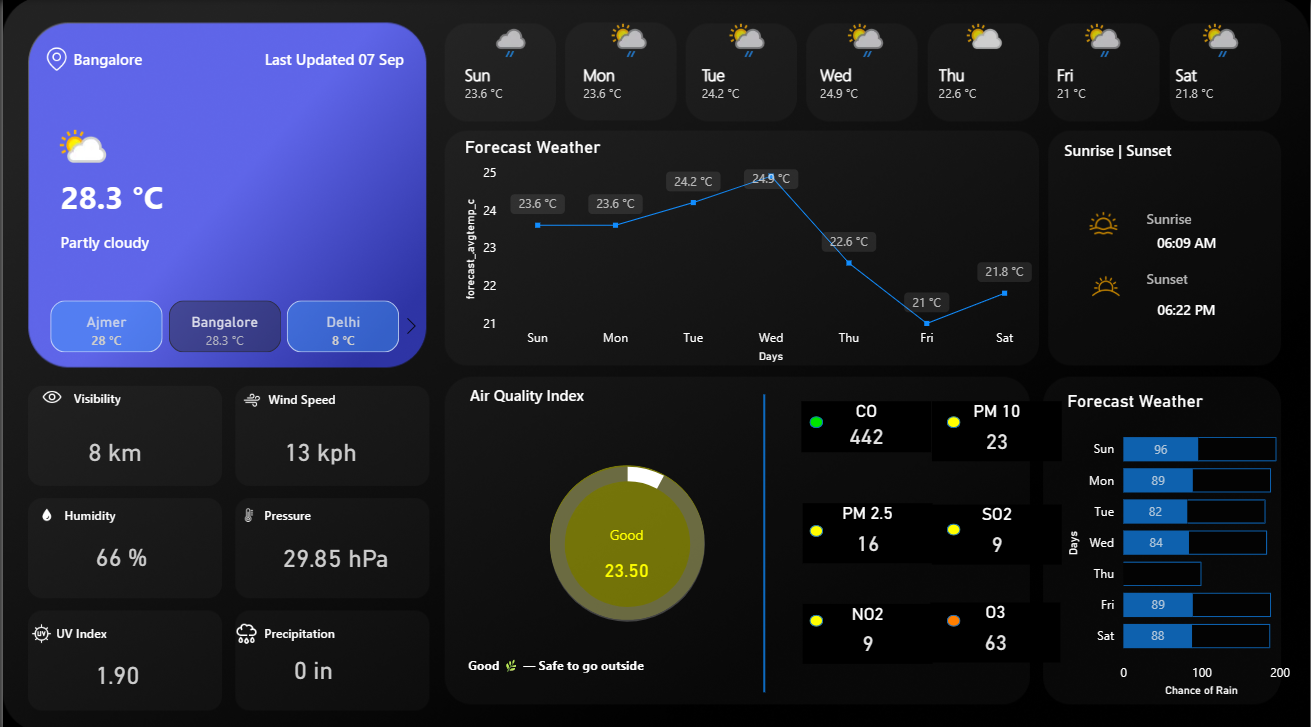

What the dashboard file says about the page in this screenshot:
{"tool":"powerbi","page":{"name":"Page 1","canvas":[1280,720],"ordinal":0},"visuals":[{"type":"advancedSlicerVisual","fields":{"Values":["Locations.location.name"]},"box":[21.3,289,394.2,61.3],"z":0},{"type":"shape","box":[535.4,455.5,151.8,151.8],"z":0,"group":"g2"},{"type":"shape","box":[546.5,506.2,129.1,35.2],"z":0,"group":"g1"},{"type":"shape","box":[51.9,159.8,154.5,63.9],"z":1000},{"type":"card","fields":{"Values":["Sum(Current.current.air_quality.pm10)"]},"box":[546.5,541.4,129.1,36.9],"z":1000,"group":"g1"},{"type":"shape","box":[52.3,206.2,333.2,61.3],"z":2000},{"type":"shape","box":[66.6,40,166.5,34.6],"z":3000},{"type":"shape","box":[233.1,38.6,162.5,37.3],"z":4000},{"type":"image","box":[34.6,41.3,36,33.3],"z":5000},{"type":"image","box":[29.9,373.6,37.4,31.4],"z":6000},{"type":"cardVisual","fields":{"Data":["Min(Current.current.condition.icon)"]},"box":[35,102.1,161.9,89],"z":7000},{"type":"shape","box":[67.2,372.1,161.4,35.9],"z":8000},{"type":"image","box":[219.7,378.1,47.8,26.9],"z":9000},{"type":"shape","box":[257,373.6,161.4,35.9],"z":10000},{"type":"shape","box":[252.5,484.2,161.4,38.9],"z":11000},{"type":"shape","box":[252.5,600.7,161.4,38.9],"z":12000},{"type":"shape","box":[49.3,600.7,161.4,38.9],"z":13000},{"type":"shape","box":[56.8,484.2,161.4,38.9],"z":14000},{"type":"image","box":[229.7,486.1,23.5,36.9],"z":15000},{"type":"image","box":[22.4,603.7,29.9,34.4],"z":16000},{"type":"image","box":[219.7,603.7,37.4,34.4],"z":17000},{"type":"image","box":[29.9,493,26.9,22.4],"z":18000},{"type":"cardVisual","fields":{"Data":["My_meaures.humidity"]},"box":[73.2,505.1,118.1,73.2],"z":19000},{"type":"cardVisual","fields":{"Data":["My_meaures.wind speed"]},"box":[258.5,405,139,55.3],"z":20000},{"type":"cardVisual","fields":{"Data":["My_meaures.Pressure"]},"box":[257,508.1,139,70.2],"z":21000},{"type":"cardVisual","fields":{"Data":["My_meaures.Percipitation"]},"box":[267.5,614.2,115.1,77.7],"z":22000},{"type":"cardVisual","fields":{"Data":["My_meaures.visibility"]},"box":[67.2,405,118.1,55.3],"z":23000},{"type":"cardVisual","fields":{"Data":["My_meaures.uv index"]},"box":[73.2,621.6,118.1,70.2],"z":24000},{"type":"advancedSlicerVisual","fields":{"Values":["Forecast_Day.Day name"]},"box":[413.9,0,866.7,109.1],"z":25000},{"type":"lineChart","title":"Forecast Weather","fields":{"Y":["Sum(Forecast_Day.forecast.forecastday.day.avgtemp_c)"],"Category":["Forecast_Day.Day name"]},"box":[447.5,134.5,568.7,225.1],"z":26000},{"type":"shape","box":[1035.6,125.5,188.3,43.3],"z":27000},{"type":"shape","box":[1117.8,197.3,152.4,32.9],"z":28000},{"type":"shape","box":[1117.8,255.5,152.4,32.9],"z":29000},{"type":"shape","box":[1128.2,286.9,152.4,32.9],"z":30000},{"type":"shape","box":[1128.2,224.2,152.4,26.9],"z":31000},{"type":"image","box":[1056.5,257,47.8,46.3],"z":32000},{"type":"image","box":[1050.5,200.2,53.8,37.4],"z":33000},{"type":"barChart","title":"Forecast Weather","fields":{"Category":["Forecast_Day.Day name"],"Y":["Sum(Forecast_Day.forecast.forecastday.day.daily_chance_of_rain)","My_meaures.overall"]},"box":[1037.1,383.6,227.5,303.4],"z":34000},{"type":"shape","box":[453.6,364.6,188.2,43.8],"z":35000},{"type":"card","title":"PM 10","fields":{"Values":["Sum(Current.current.air_quality.pm10)"]},"box":[910.2,392.3,127.4,58.7],"z":36000},{"type":"card","title":"SO2","fields":{"Values":["Sum(Current.current.air_quality.so2)"]},"box":[910.2,494.5,127.4,58.7],"z":37000},{"type":"card","title":"O3","fields":{"Values":["Sum(Current.current.air_quality.o3)"]},"box":[908.6,590.1,127.4,58.7],"z":38000},{"type":"card","title":"NO2","fields":{"Values":["Sum(Current.current.air_quality.no2)"]},"box":[782.8,591.7,127.4,58.7],"z":39000},{"type":"card","title":"PM 2.5","fields":{"Values":["Sum(Current.current.air_quality.pm2_5)"]},"box":[782.8,492.8,127.4,58.7],"z":40000},{"type":"card","title":"CO","fields":{"Values":["Sum(Current.current.air_quality.co)"]},"box":[781.2,392.3,127.4,50.3],"z":41000},{"type":"shape","box":[789.5,407.3,13.4,11.7],"z":42000},{"type":"shape","box":[923.7,407.3,13.4,11.7],"z":43000},{"type":"shape","box":[789.5,601.8,13.4,11.7],"z":44000},{"type":"shape","box":[789.5,514.6,13.4,11.7],"z":45000},{"type":"shape","box":[923.7,513,13.4,11.7],"z":46000},{"type":"shape","box":[923.7,601.8,13.4,11.7],"z":47000},{"type":"shape","box":[611.1,386.5,268.4,291.7],"z":48000},{"type":"group","id":"g1","title":"Group 1","box":[546.5,506.2,129.1,72.1],"z":49000},{"type":"group","id":"g2","title":"Group 2","box":[510.1,432.9,202.4,195.8],"z":50000},{"type":"donutChart","fields":{"Y":["Sum(Current.current.air_quality.pm10)","My_meaures.left value pm 10"]},"box":[510.1,432.9,202.4,195.8],"z":51000,"group":"g2"},{"type":"shape","box":[370.5,628.7,342.8,43.8],"z":51000}]}

Visuals, with their boxes in screenshot pixels (x1, y1, x2, y2), scaled from the page's 1280x720 canvas onto the 1311x727 screenshot:
advancedSlicerVisual - Locations.location.name: <box>22,292,426,354</box>
shape: <box>548,460,704,613</box>
shape: <box>560,511,692,547</box>
shape: <box>53,161,211,226</box>
card - Sum(Current.current.air_quality.pm10): <box>560,547,692,584</box>
shape: <box>54,208,395,270</box>
shape: <box>68,40,239,75</box>
shape: <box>239,39,405,77</box>
image: <box>35,42,72,75</box>
image: <box>31,377,69,409</box>
cardVisual - Min(Current.current.condition.icon): <box>36,103,202,193</box>
shape: <box>69,376,234,412</box>
image: <box>225,382,274,409</box>
shape: <box>263,377,429,413</box>
shape: <box>259,489,424,528</box>
shape: <box>259,607,424,646</box>
shape: <box>50,607,216,646</box>
shape: <box>58,489,223,528</box>
image: <box>235,491,259,528</box>
image: <box>23,610,54,644</box>
image: <box>225,610,263,644</box>
image: <box>31,498,58,520</box>
cardVisual - My_meaures.humidity: <box>75,510,196,584</box>
cardVisual - My_meaures.wind speed: <box>265,409,407,465</box>
cardVisual - My_meaures.Pressure: <box>263,513,406,584</box>
cardVisual - My_meaures.Percipitation: <box>274,620,392,699</box>
cardVisual - My_meaures.visibility: <box>69,409,190,465</box>
cardVisual - My_meaures.uv index: <box>75,628,196,699</box>
advancedSlicerVisual - Forecast_Day.Day name: <box>424,0,1310,110</box>
"Forecast Weather" lineChart: <box>458,136,1041,363</box>
shape: <box>1061,127,1254,170</box>
shape: <box>1145,199,1301,232</box>
shape: <box>1145,258,1301,291</box>
shape: <box>1156,290,1310,323</box>
shape: <box>1156,226,1310,254</box>
image: <box>1082,259,1131,306</box>
image: <box>1076,202,1131,240</box>
"Forecast Weather" barChart: <box>1062,387,1295,694</box>
shape: <box>465,368,657,412</box>
"PM 10" card: <box>932,396,1063,455</box>
"SO2" card: <box>932,499,1063,559</box>
"O3" card: <box>931,596,1061,655</box>
"NO2" card: <box>802,597,932,657</box>
"PM 2.5" card: <box>802,498,932,557</box>
"CO" card: <box>800,396,931,447</box>
shape: <box>809,411,822,423</box>
shape: <box>946,411,960,423</box>
shape: <box>809,608,822,619</box>
shape: <box>809,520,822,531</box>
shape: <box>946,518,960,530</box>
shape: <box>946,608,960,619</box>
shape: <box>626,390,901,685</box>
"Group 1" group: <box>560,511,692,584</box>
"Group 2" group: <box>522,437,730,635</box>
donutChart - Sum(Current.current.air_quality.pm10) x My_meaures.left value pm 10: <box>522,437,730,635</box>
shape: <box>379,635,731,679</box>
